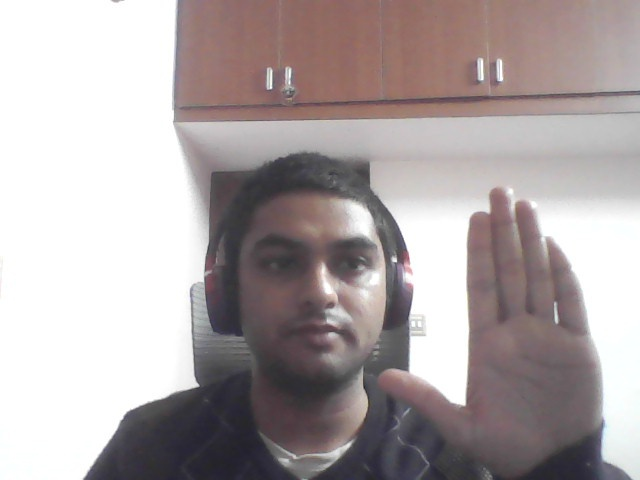Hello: (363, 174, 622, 471)
